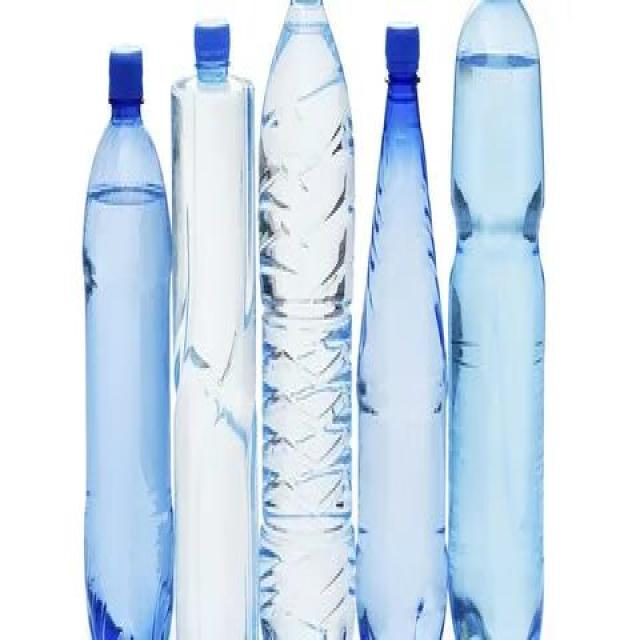blue: (448, 2, 540, 640), (82, 101, 174, 640), (173, 66, 255, 640)
